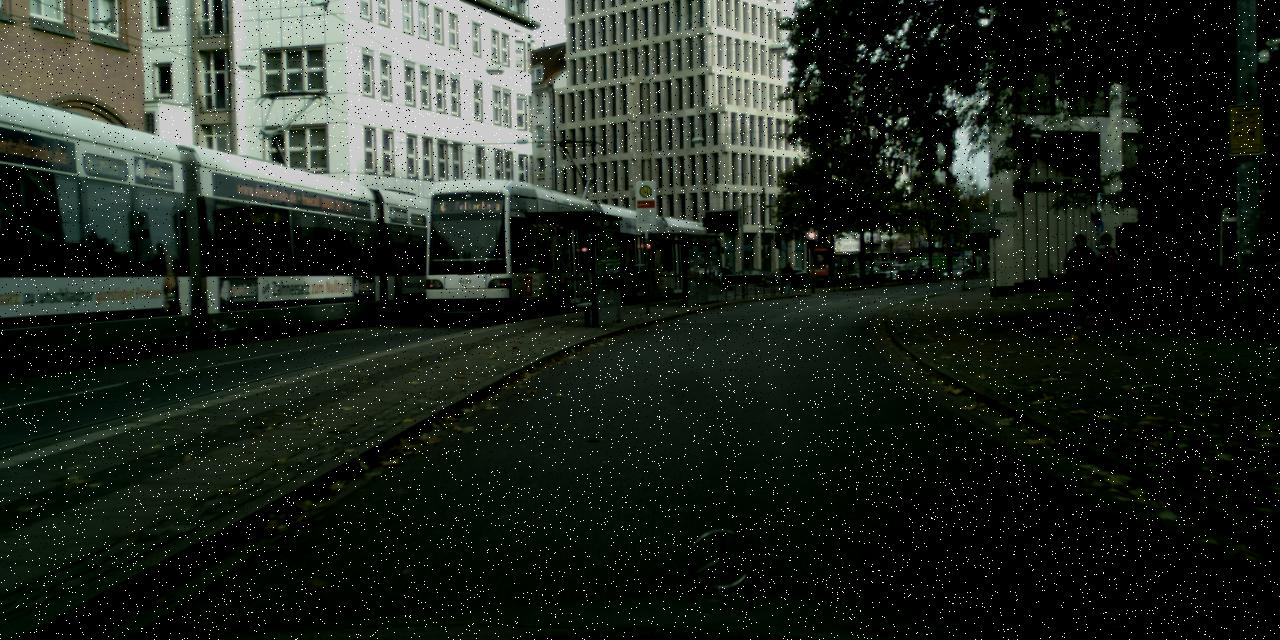ped: (1088, 233, 1128, 328), (1063, 233, 1101, 328), (780, 260, 794, 296)
